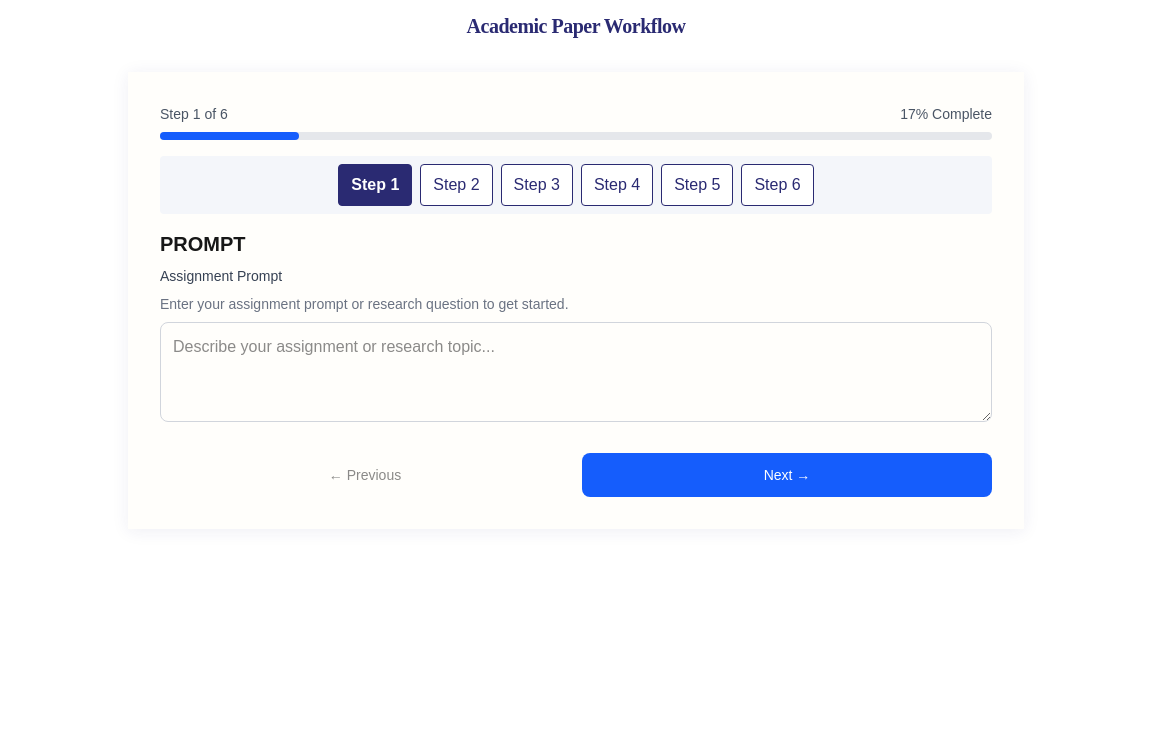
Test case: Loading States and Progress Indicators › should display skeleton screens while loading content
Navigate to research step
Click the tab labelled "Step 3": (537, 185) top-left (501, 164), bottom-right (573, 206)
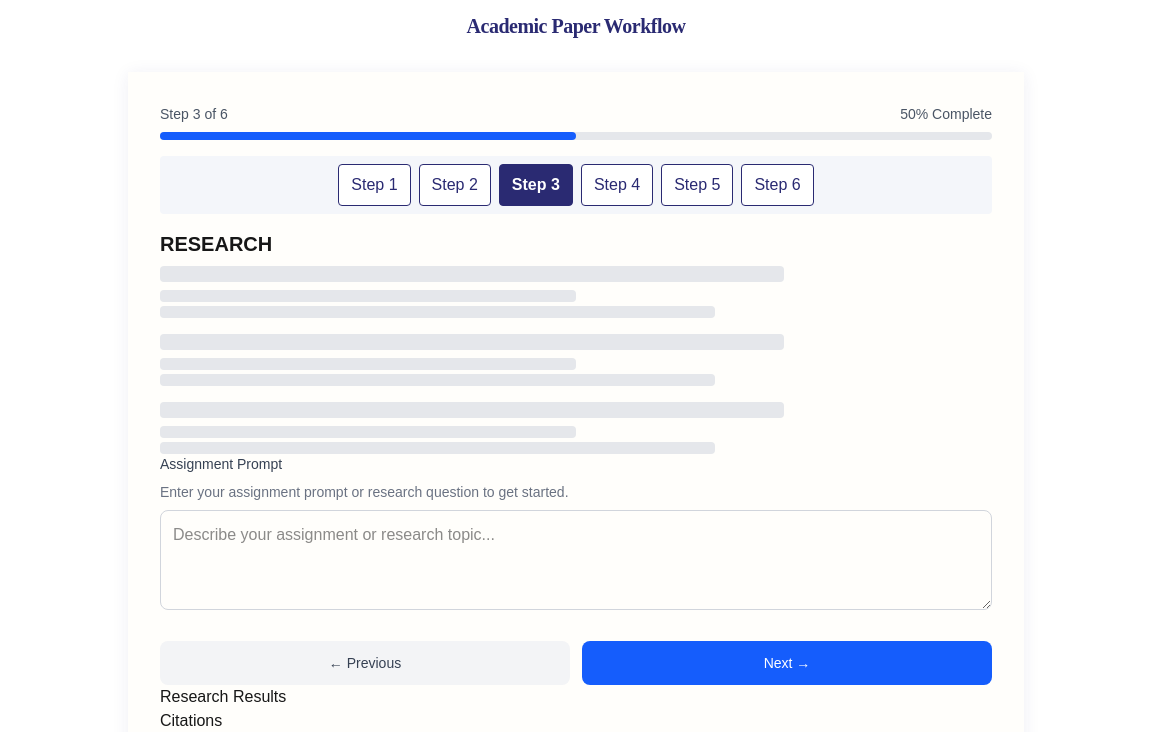
Now the element with test id "research-skeleton" is shown, box top-left (160, 266), bottom-right (784, 454)
Now the number of elements with test id "skeleton-item" is 3, box top-left (160, 266), bottom-right (784, 318); top-left (160, 334), bottom-right (784, 386); top-left (160, 402), bottom-right (784, 454)
